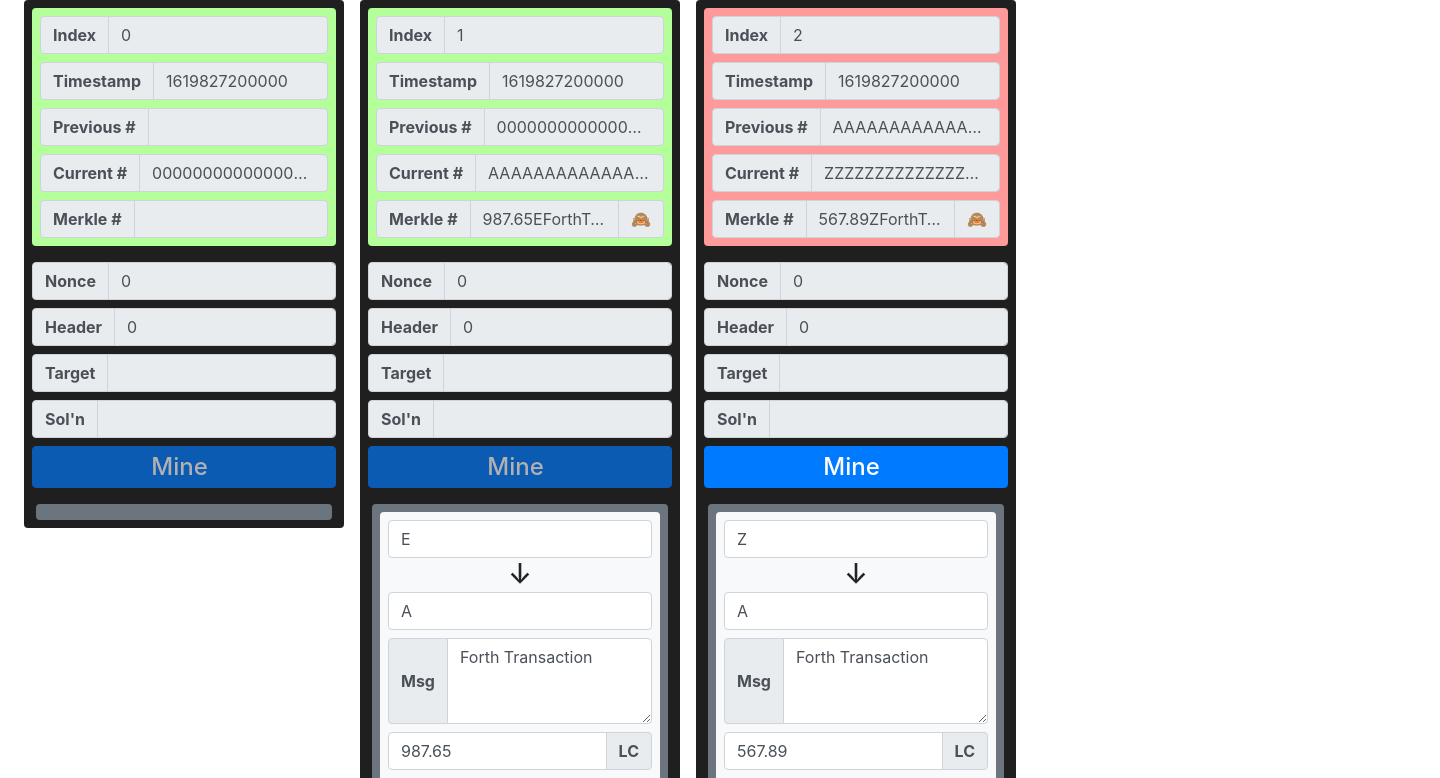
Test: change of transaction details causes a change in merkle root and propagation › change in Amount input
The width and height of the screenshot is (1440, 778).
Type "123.02" into the 1st number field named "Block Transactions Amount". click: (497, 751)
box: top-left (388, 732), bottom-right (607, 770)
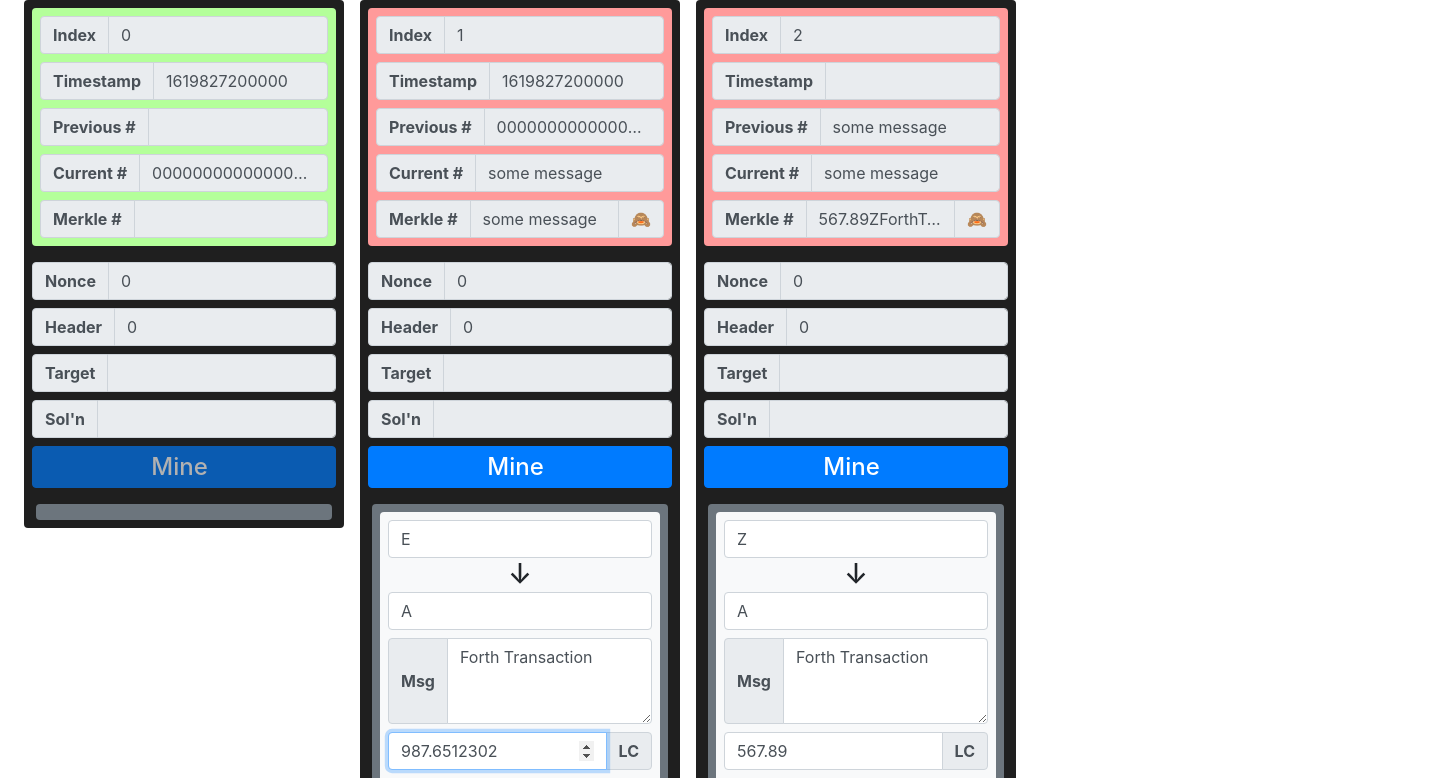
Expected: the number of forms named "Block Form Invalid" is 2, top-left (368, 8), bottom-right (672, 246); top-left (704, 8), bottom-right (1008, 246)
Expected: the 1st field named "Block Merkle" is not empty, top-left (470, 200), bottom-right (619, 238)
